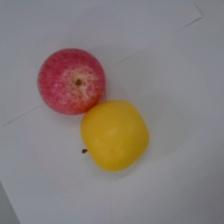red: (37, 46, 107, 116)
yellow: (80, 99, 150, 172)
